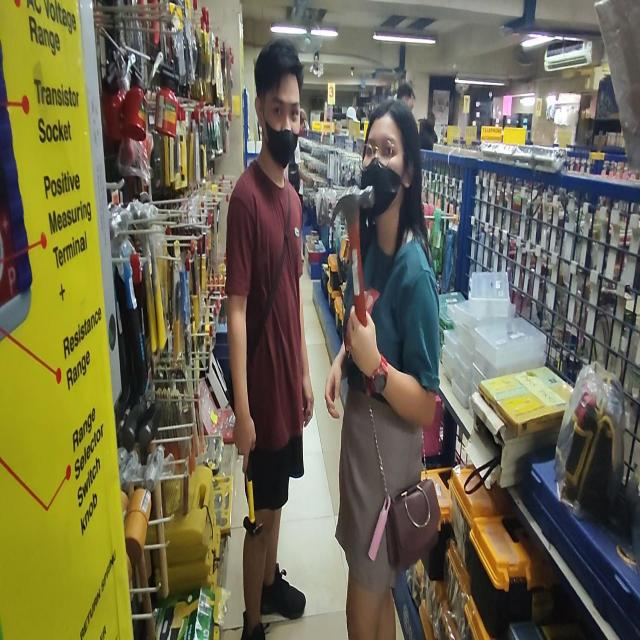hammer: (332, 185, 374, 327), (243, 460, 263, 537)
